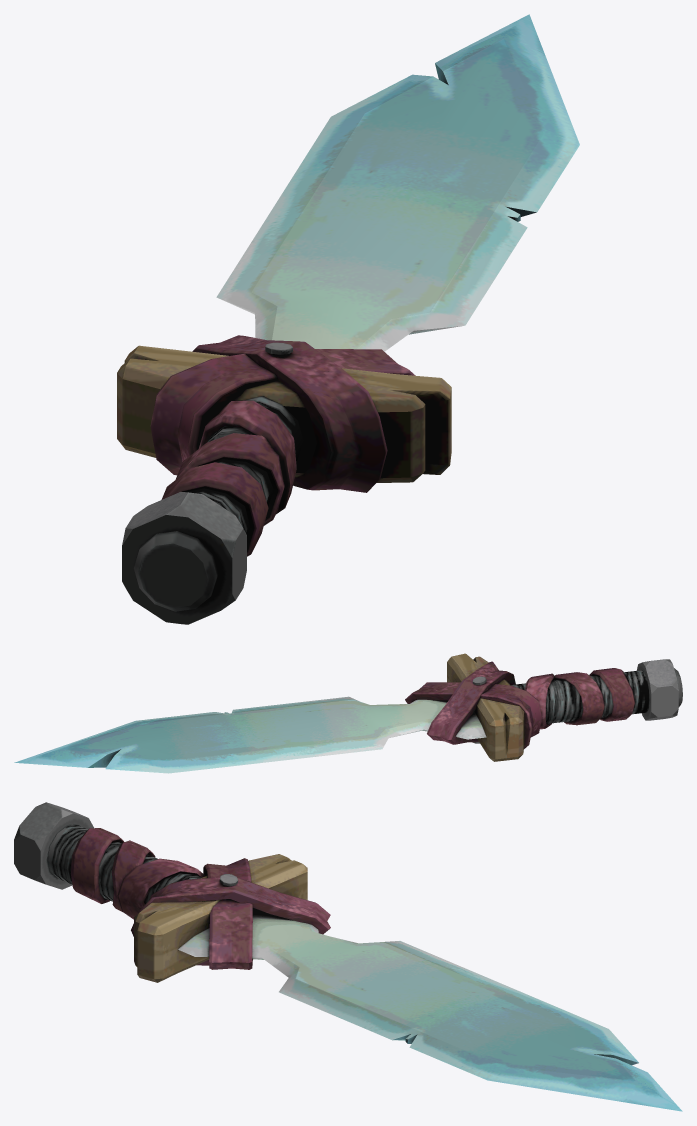
Rendered from weapon-shortSword1-UI.glb.
3 views of the same model, one above another, from view 1: azimuth 30°, elevation 25°; view 2: azimuth 150°, elevation 25°; view 3: azimuth 270°, elevation 25° (orthographic). The views are drawn at different scales.
Visible parts, largest first — view 1: weapon-shortSword_UI; view 2: weapon-shortSword_UI; view 3: weapon-shortSword_UI.
Part boxes in pixels (x1=…): weapon-shortSword_UI: x1=117, y1=14, x2=579, y2=624; weapon-shortSword_UI: x1=14, y1=653, x2=682, y2=773; weapon-shortSword_UI: x1=14, y1=802, x2=682, y2=1111.
Bounding box in the file's own units: 0.7182 × 0.098 × 0.7182.
Materials: 1 (1 with a texture image).
